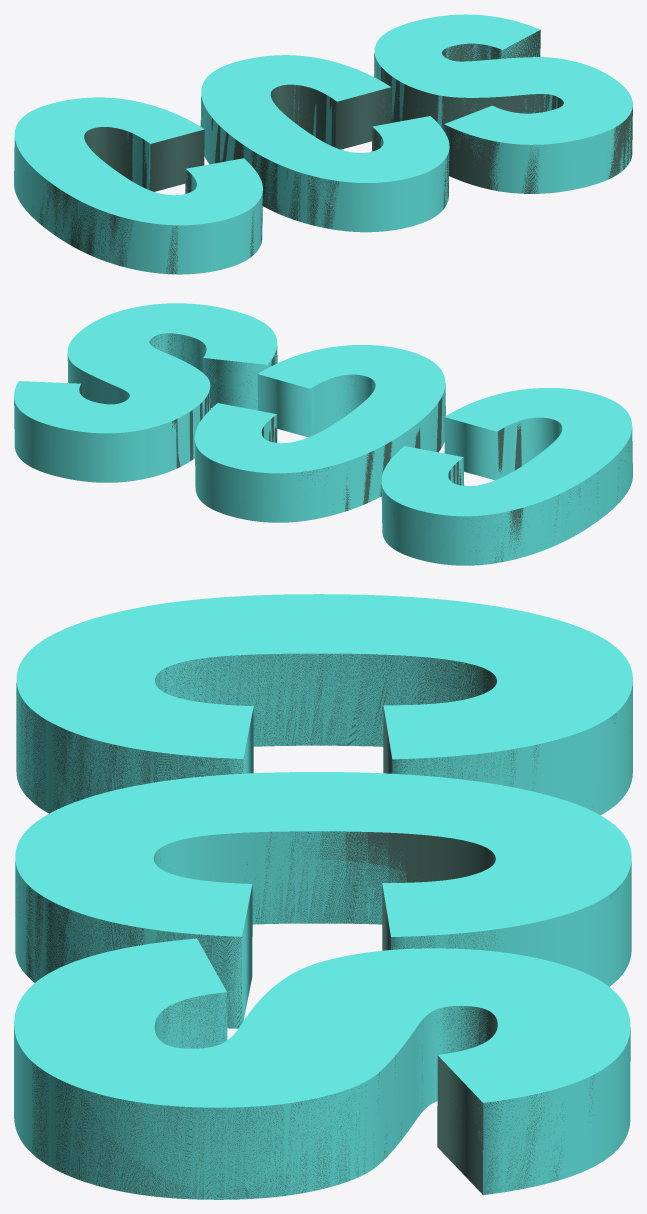
3 renders of one model, top to bottom at view 1: azimuth 30°, elevation 25°; view 2: azimuth 150°, elevation 25°; view 3: azimuth 270°, elevation 25°, orthographic. The views are drawn at different scales.
Visible parts, largest first — view 1: Text.001, Text; view 2: Text.001, Text; view 3: Text.001, Text.
Part boxes in pixels (left/top/right/bottom): Text.001: left=14, top=14, right=632, bottom=274; Text: left=26, top=30, right=632, bottom=274; Text.001: left=14, top=303, right=632, bottom=565; Text: left=79, top=333, right=628, bottom=564; Text.001: left=14, top=594, right=632, bottom=1199; Text: left=15, top=653, right=632, bottom=1199.
Size of the model in its own units: 3.45 by 0.3518 by 1.81.
